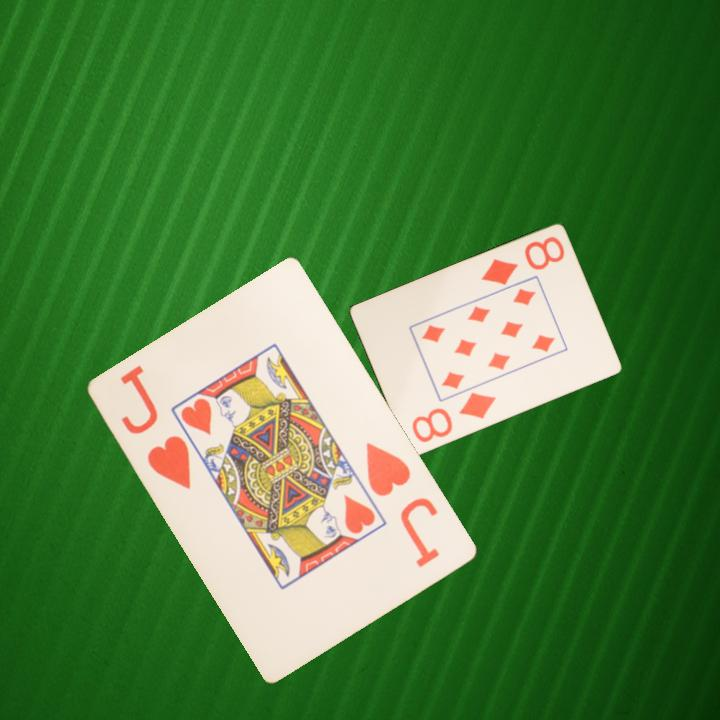8d: (408, 389, 499, 446), (477, 233, 567, 288)
Jh: (362, 438, 444, 571), (144, 431, 195, 493)
